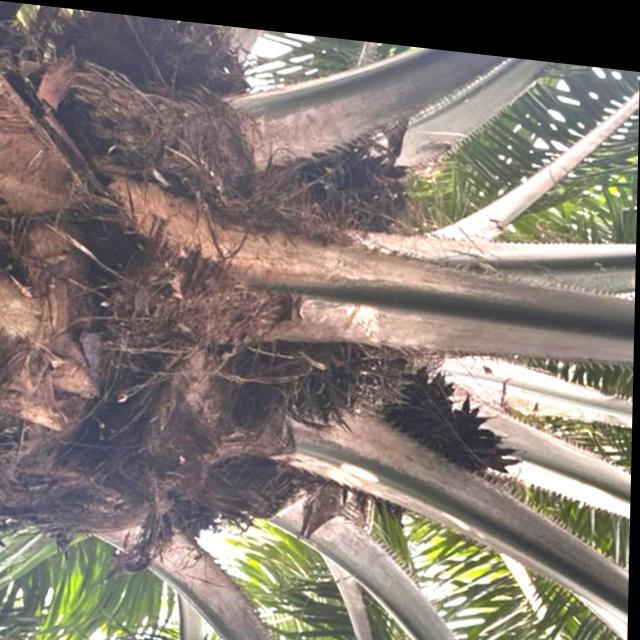unripe: (247, 305, 424, 443)
